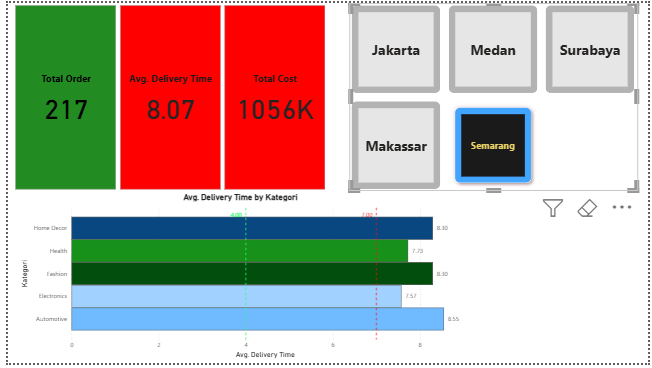

Layout of this report page (visuals, bound fields, positions):
{"tool":"powerbi","page":{"name":"Page 1","canvas":[1280,720],"ordinal":0},"visuals":[{"type":"cardVisual","fields":{"Data":["Count(supply_chain_cleaned_final.Order_ID)","Avg(supply_chain_cleaned_final.Lead_Time_Days)","Sum(supply_chain_cleaned_final.Shipping_Cost)"]},"box":[10,0,630,378],"z":0},{"type":"clusteredBarChart","title":"Avg. Delivery Time by Kategori","fields":{"Category":["supply_chain_cleaned_final.Product_Category"],"Y":["Avg(supply_chain_cleaned_final.Lead_Time_Days)"]},"box":[10,376.7,910,343.3],"z":1000},{"type":"advancedSlicerVisual","fields":{"Values":["supply_chain_cleaned_final.Warehouse_Location"]},"box":[682.5,0,577.5,377.5],"z":2000}]}

Visuals, with their boxes in screenshot pixels (x1, y1, x2, y2), scaled from the page's 1280x720 canvas onto the 652x368 screenshot:
cardVisual - Count(supply_chain_cleaned_final.Order_ID) x Avg(supply_chain_cleaned_final.Lead_Time_Days): 5/0/326/193
"Avg. Delivery Time by Kategori" clusteredBarChart: 5/193/469/367
advancedSlicerVisual - supply_chain_cleaned_final.Warehouse_Location: 348/0/642/193
